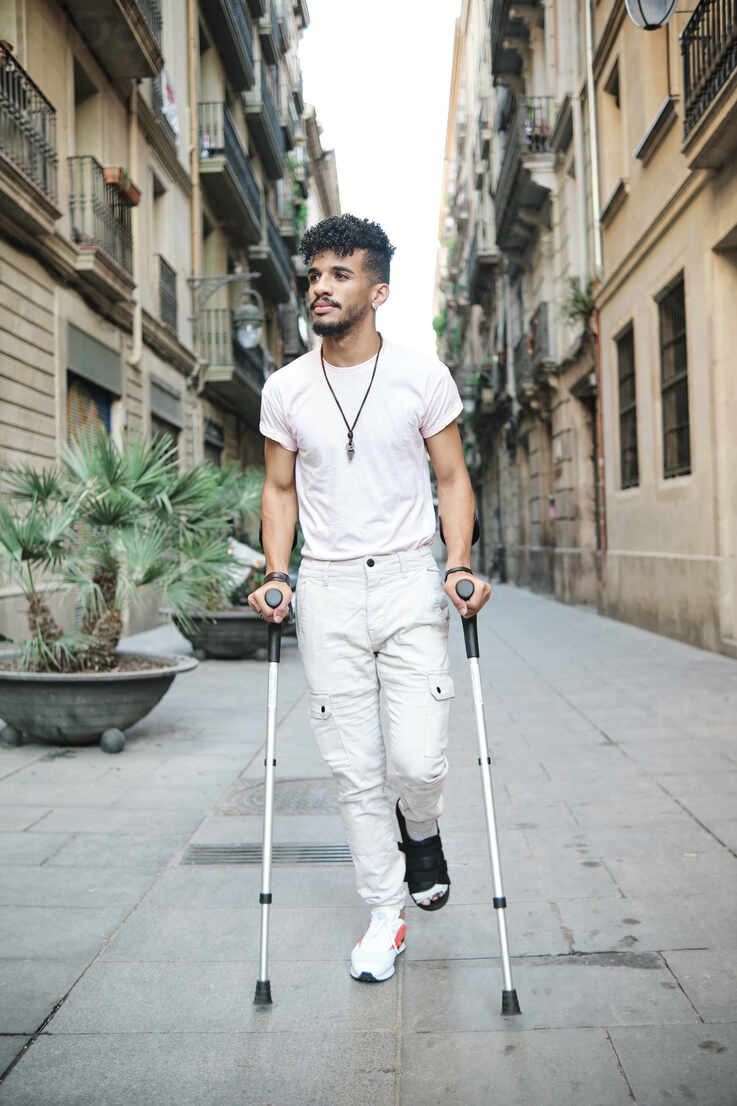crutches: (246, 215, 522, 1018)
